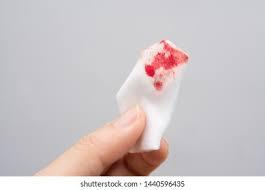cotton: (117, 40, 187, 151)
